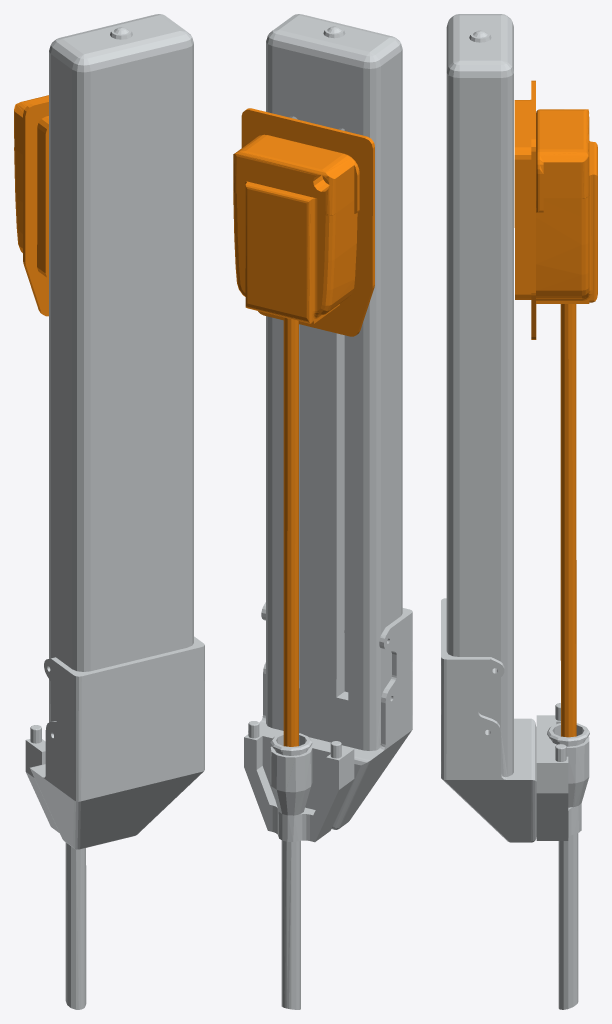
The model's file is psm_modified.dae.
3 views of the same model, side by side, from view 1: azimuth 30°, elevation 25°; view 2: azimuth 150°, elevation 25°; view 3: azimuth 270°, elevation 25° (orthographic). The views are drawn at different scales.
Parts seen in each view (by area): view 1: psm_pitch_end_link, psm_main_insertion_link; view 2: psm_pitch_end_link, psm_main_insertion_link; view 3: psm_pitch_end_link, psm_main_insertion_link.
Part boxes in pixels (left/top/right/bottom): psm_pitch_end_link: left=25, top=14, right=204, bottom=1009; psm_main_insertion_link: left=14, top=95, right=48, bottom=316; psm_pitch_end_link: left=244, top=14, right=412, bottom=1009; psm_main_insertion_link: left=233, top=108, right=374, bottom=746; psm_pitch_end_link: left=441, top=14, right=589, bottom=1009; psm_main_insertion_link: left=514, top=80, right=597, bottom=737.
Size of the model in its own units: 0.083 by 0.0838 by 0.5753.
